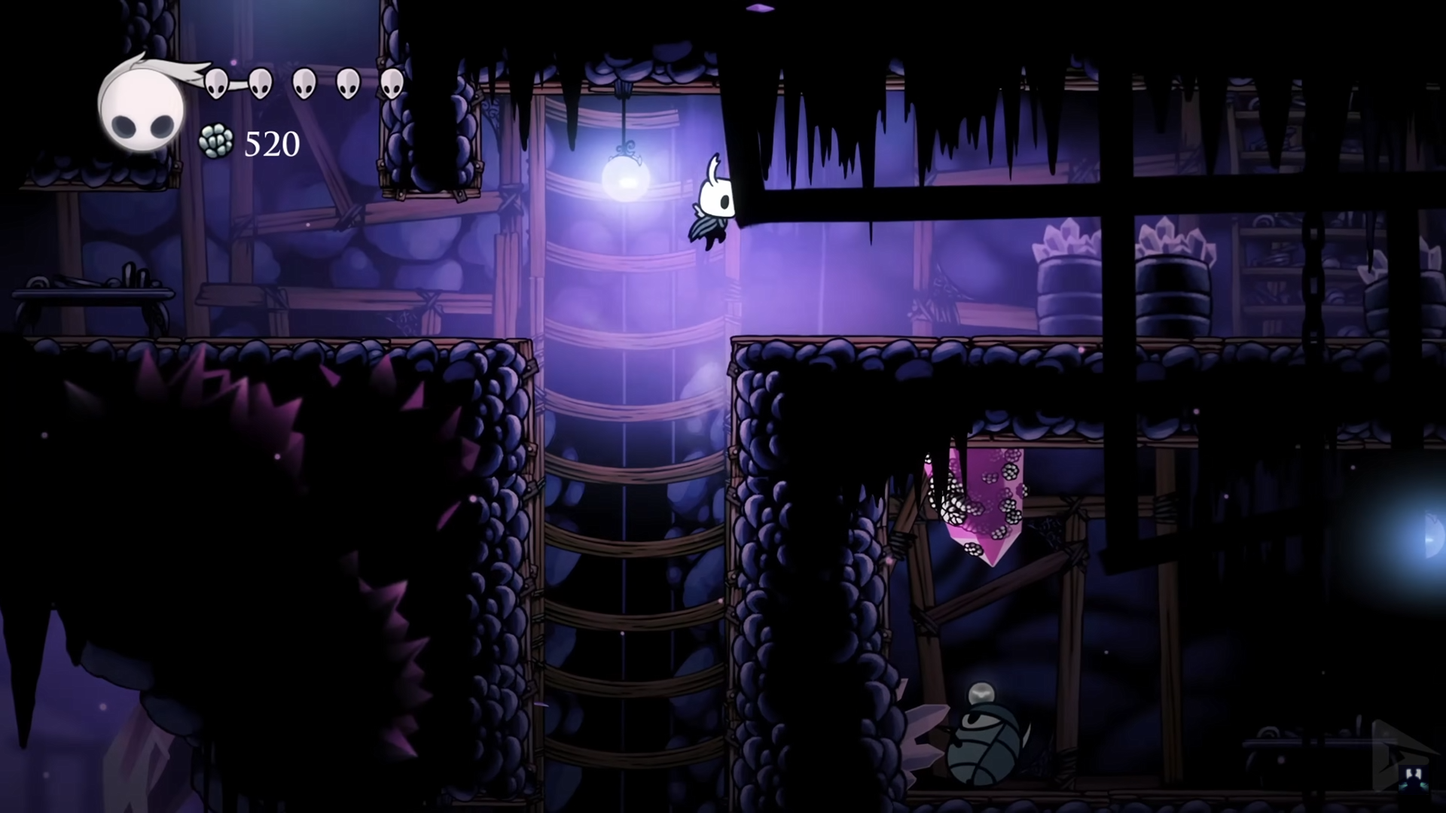HK: (686, 153, 742, 253)
